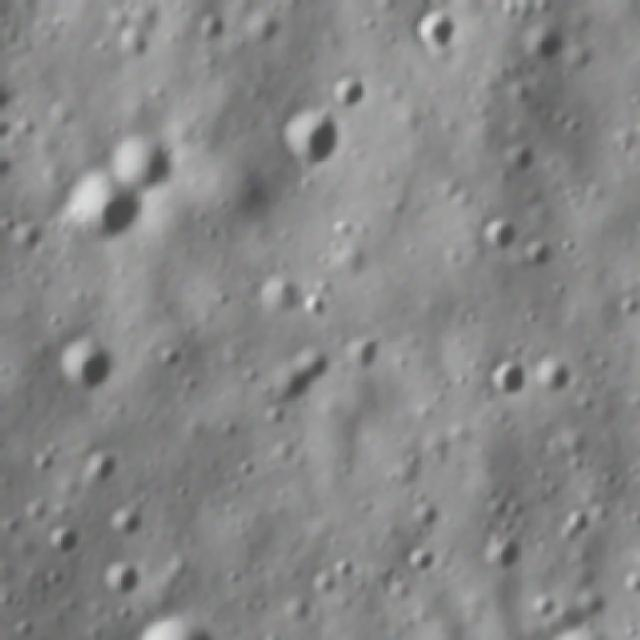crater: (60, 175, 138, 253), (267, 335, 341, 407), (274, 109, 354, 174), (115, 128, 182, 192), (54, 332, 120, 394), (410, 10, 464, 56), (336, 326, 382, 379), (529, 348, 576, 397), (477, 208, 521, 258), (255, 272, 302, 318), (100, 502, 148, 547), (482, 356, 528, 402), (83, 448, 128, 494), (98, 554, 142, 601), (320, 74, 369, 115), (480, 530, 523, 576), (241, 2, 288, 44), (521, 21, 564, 65), (500, 134, 538, 178), (44, 519, 79, 564), (517, 236, 555, 276), (7, 218, 44, 257), (559, 501, 595, 541), (294, 289, 331, 326), (18, 446, 62, 477), (401, 541, 439, 576), (116, 30, 155, 64), (194, 11, 234, 44), (276, 590, 313, 625), (522, 589, 560, 622), (328, 554, 361, 581), (618, 568, 640, 598), (156, 346, 184, 369), (11, 617, 35, 640), (0, 112, 14, 143)
